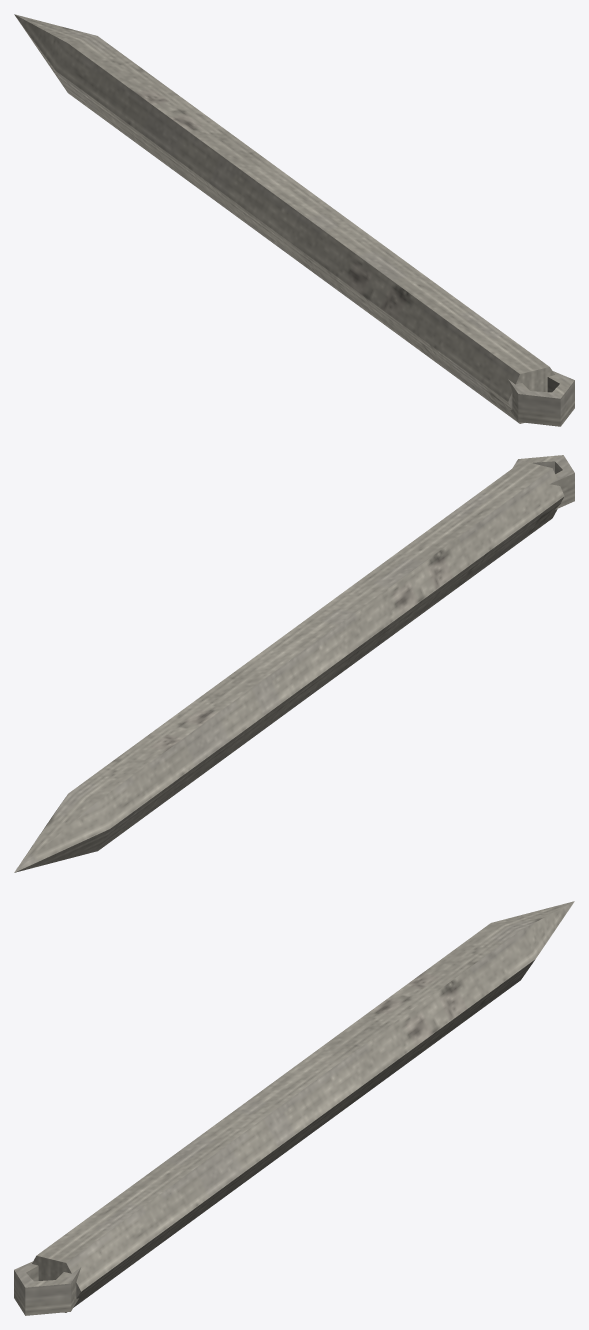
File: steelBolt.gltf
3 renders of one model, top to bottom at view 1: azimuth 30°, elevation 25°; view 2: azimuth 150°, elevation 25°; view 3: azimuth 330°, elevation 25°, orthographic.
Visible parts, largest first — view 1: bolt; view 2: bolt; view 3: bolt.
Boxes of the visible parts, left/top/right/bottom form: bolt: left=14, top=14, right=574, bottom=426; bolt: left=14, top=455, right=574, bottom=872; bolt: left=14, top=901, right=574, bottom=1315.
Size of the model in its own units: 0.019 by 0.016 by 0.318.
1 material, 1 textured.
